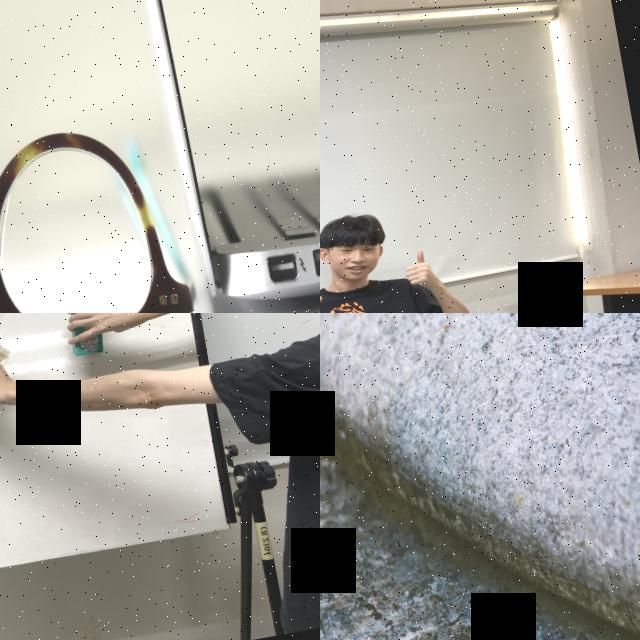cup: (0, 324, 20, 403)
